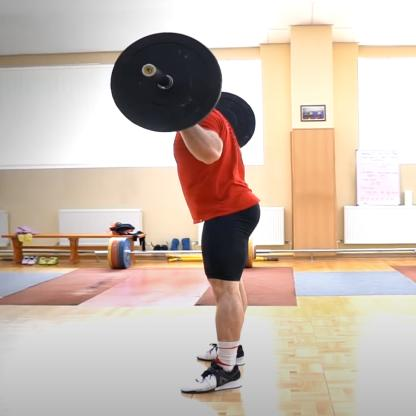barbell: (111, 33, 223, 134)
